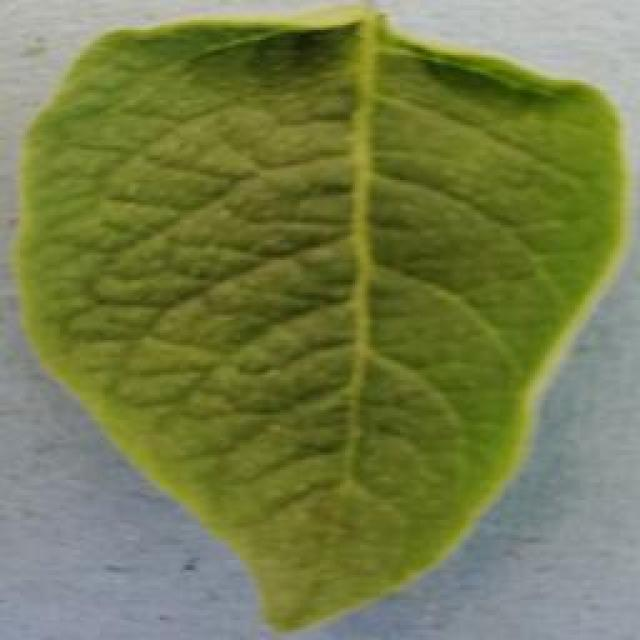Potato_Healthy: (18, 7, 624, 636)
